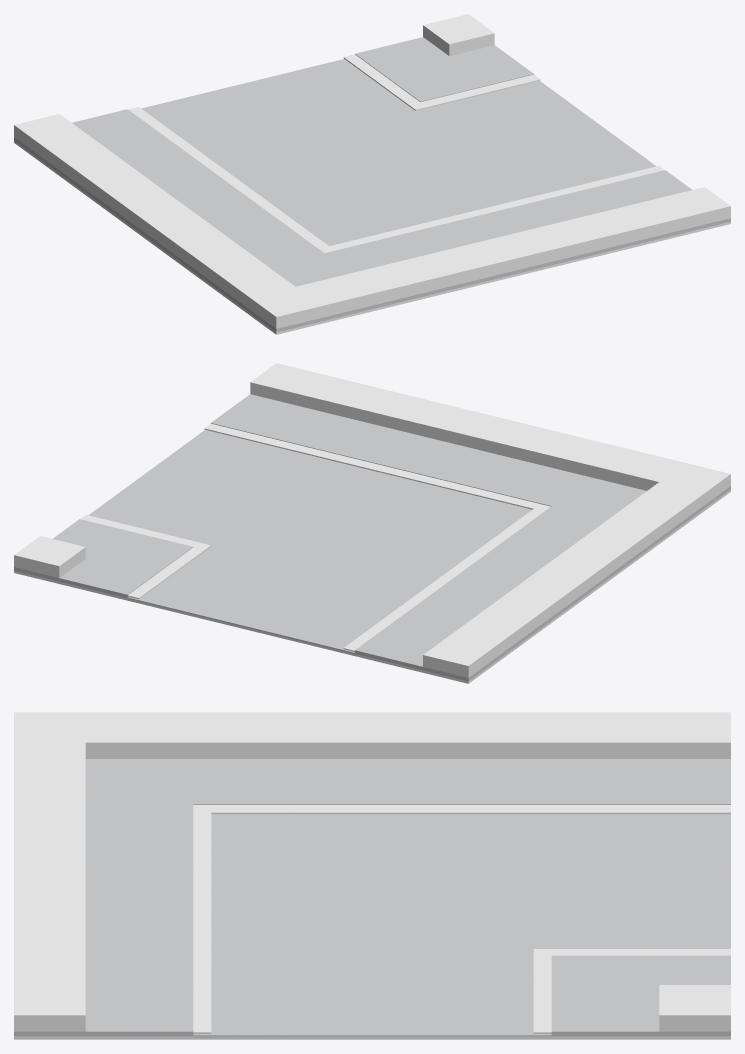
The picture shows the model from 3 angles, top to bottom: view 1: azimuth 30°, elevation 25°; view 2: azimuth 150°, elevation 25°; view 3: azimuth 270°, elevation 25°; orthographic projection. The views are drawn at different scales.
Parts seen in each view (by area): view 1: Road_20x20, Road_10x20, Road_10x20__1_, Building_Main_7x1, Building_Main_7x1__1_, Path, Path_2, Path__1__2, Path__1__1, Path__1_, Path__2_, Path_1 (+16 smaller); view 2: Road_20x20, Road_10x20, Road_10x20__1_, Building_Main_7x1, Building_Main_7x1__1_, Path, Path__1_, Path__2_, Path_1, Path__1__1, Path__1__2, Path_2 (+16 smaller); view 3: Road_20x20, Road_10x20__1_, Road_10x20, Building_Main_7x1__1_, Building_Main_7x1, Path, Path_1, Path__1_, Path__2_, Path_2, Path__1__1, Path__1__2 (+16 smaller).
Part boxes in pixels (<box>): Road_20x20: <box>207,107,542,246</box>; Road_10x20: <box>141,59,409,156</box>; Road_10x20__1_: <box>426,81,655,193</box>; Building_Main_7x1: <box>341,198,685,306</box>; Building_Main_7x1__1_: <box>40,133,268,290</box>; Path: <box>355,37,534,102</box>; Path_2: <box>79,157,258,235</box>; Path__1__2: <box>145,205,323,283</box>; Path__1__1: <box>14,109,192,187</box>; Path__1_: <box>438,197,617,276</box>; Path__2_: <box>325,225,503,304</box>; Path_1: <box>552,170,730,249</box>; Road_20x20: <box>202,457,531,601</box>; Road_10x20: <box>127,552,406,654</box>; Road_10x20__1_: <box>89,430,318,542</box>; Building_Main_7x1: <box>295,374,639,482</box>; Building_Main_7x1__1_: <box>449,501,678,658</box>; Path: <box>14,519,192,598</box>; Path__1_: <box>324,422,476,478</box>; Path__2_: <box>438,449,590,506</box>; Path_1: <box>210,394,363,450</box>; Path__1__1: <box>355,602,534,681</box>; Path__1__2: <box>486,506,665,584</box>; Path_2: <box>421,554,599,632</box>; Road_20x20: <box>211,814,551,959</box>; Road_10x20__1_: <box>193,959,551,1037</box>; Road_10x20: <box>551,814,730,948</box>; Building_Main_7x1__1_: <box>157,712,659,758</box>; Building_Main_7x1: <box>14,773,85,984</box>; Path: <box>551,955,730,1036</box>; Path_1: <box>14,955,193,1036</box>; Path__1_: <box>85,880,193,955</box>; Path__2_: <box>85,804,193,879</box>; Path_2: <box>372,759,551,804</box>; Path__1__1: <box>551,759,730,804</box>; Path__1__2: <box>193,759,372,804</box>.
Size of the model in its own units: 4000 by 150 by 4000.
